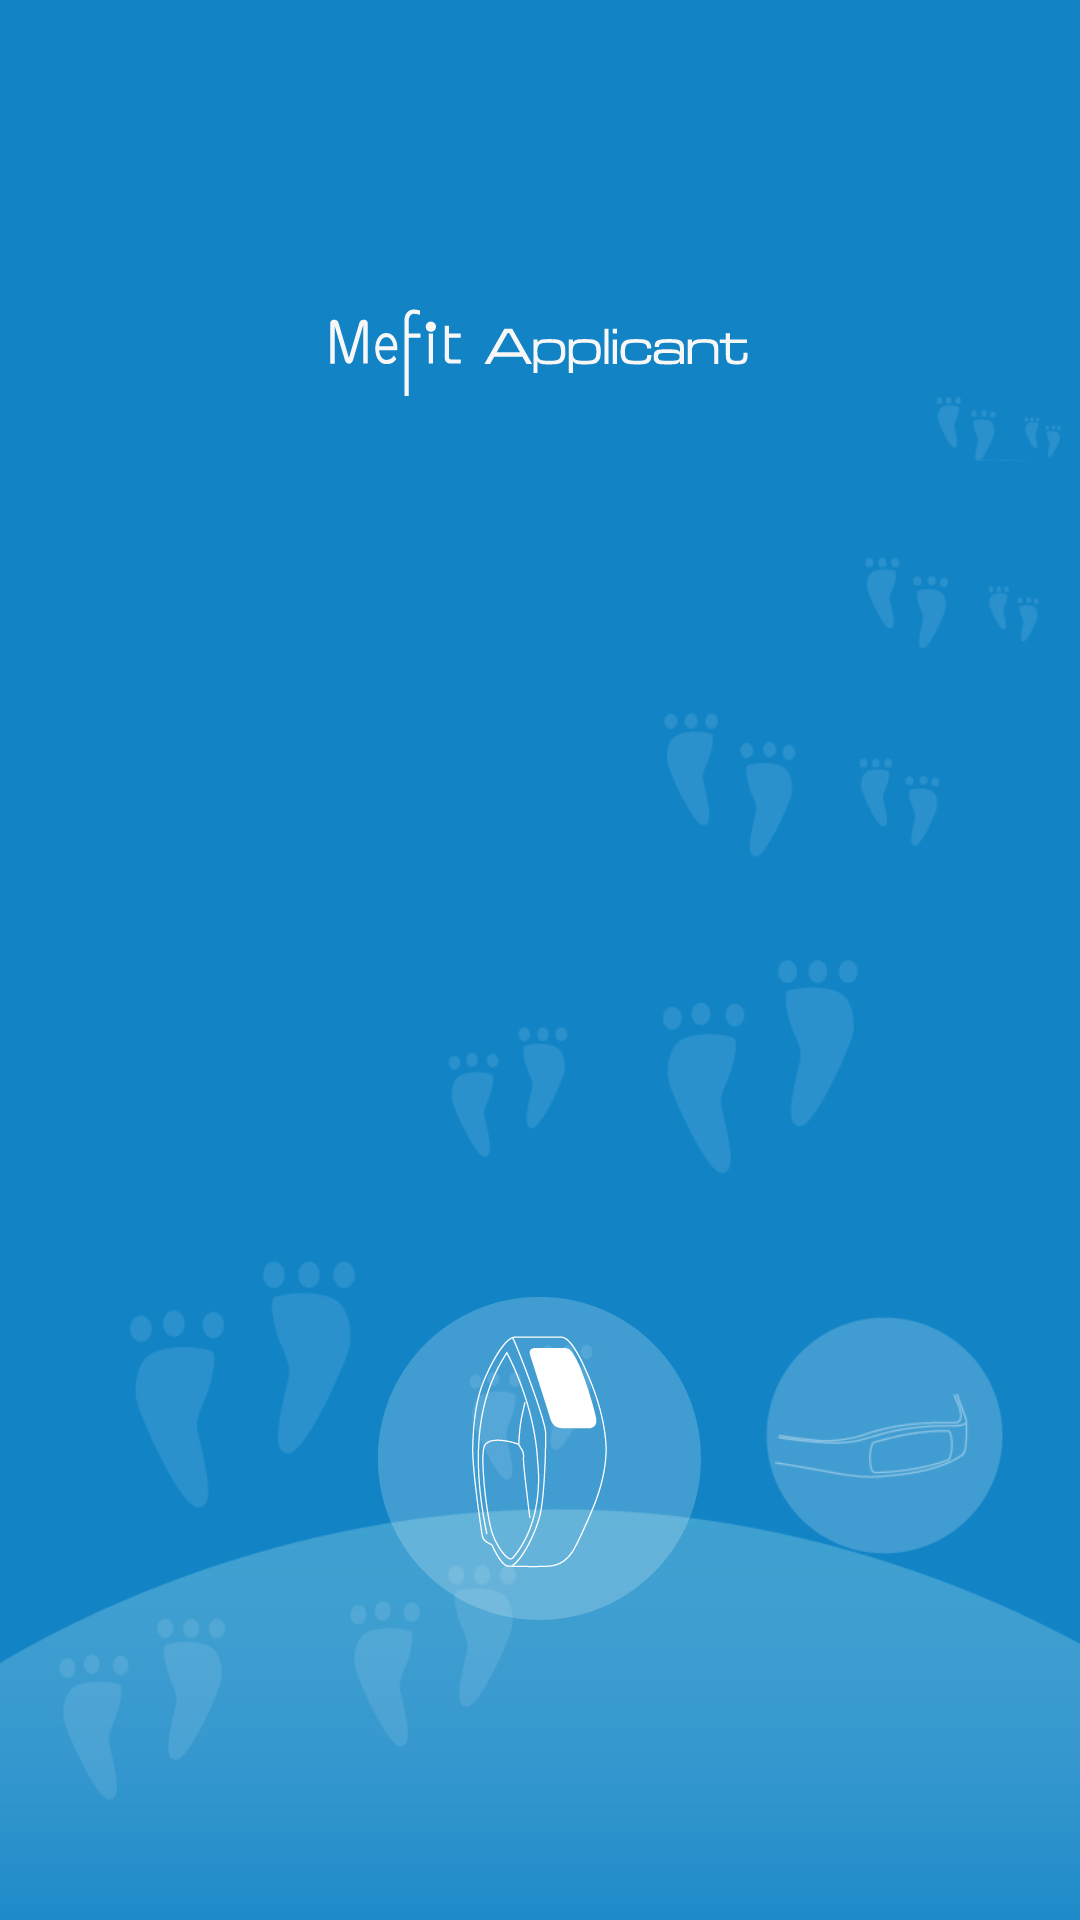

Icons on this 1080 × 1920 Android screen, each with the point to tap as (x=x, y=y):
watch: (x=539, y=1458)
